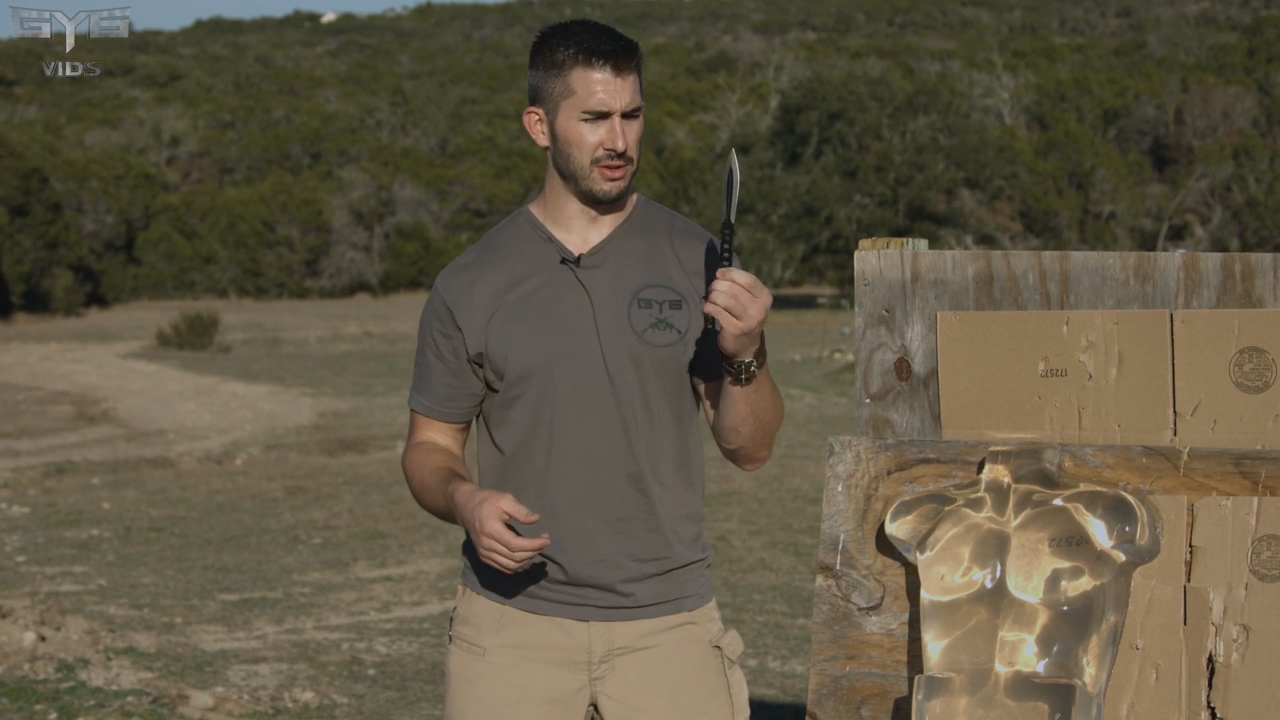knife: (697, 143, 775, 337)
